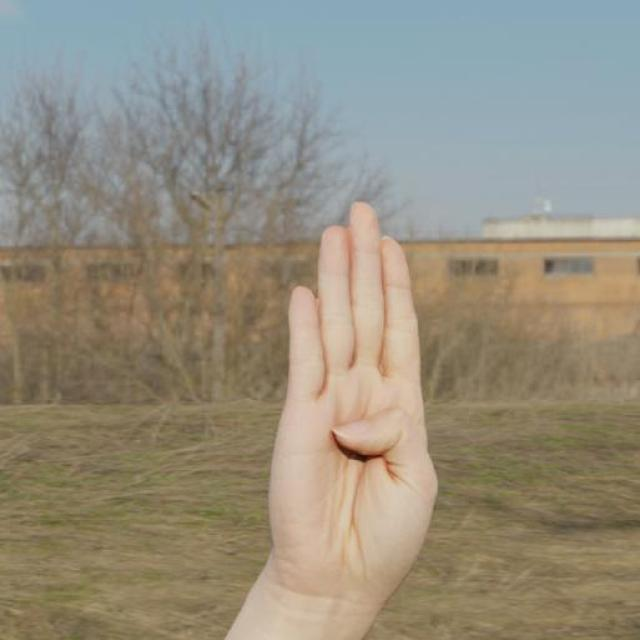B: (240, 184, 485, 634)
